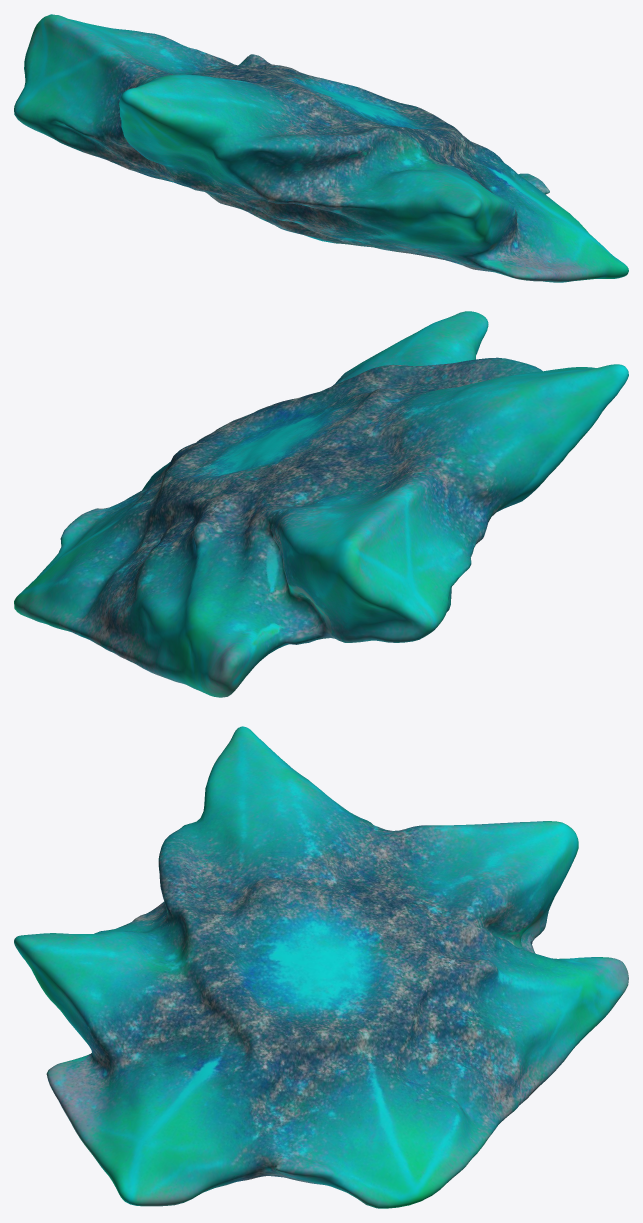
The model's file is ff54d6af98aa_a_cyan_light_blue_g.fbx.
3 renders of one model, top to bottom at view 1: azimuth 30°, elevation 25°; view 2: azimuth 150°, elevation 25°; view 3: azimuth 270°, elevation 25°, orthographic. The views are drawn at different scales.
Parts seen in each view (by area): view 1: mesh; view 2: mesh; view 3: mesh.
Part boxes in pixels (x1,y1,x2,y2): mesh: [14, 14, 628, 282]; mesh: [14, 311, 628, 697]; mesh: [14, 726, 628, 1208].
Size of the model in its own units: 86.46 by 48.82 by 99.67.
